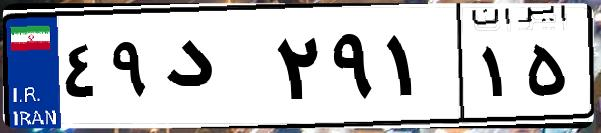1: (385, 28, 445, 110), (475, 38, 525, 113)
2: (270, 28, 330, 110)
4: (57, 26, 110, 100)
5: (525, 38, 570, 115)
9: (330, 28, 385, 110), (110, 28, 158, 98)
د: (158, 20, 270, 120)
